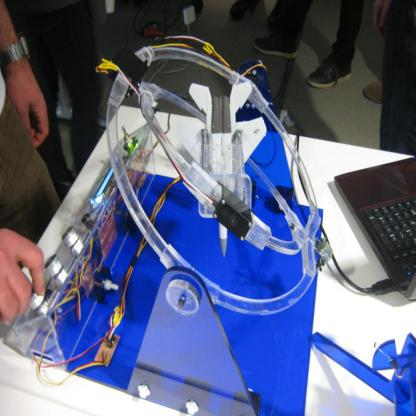board: (332, 150, 416, 290)
